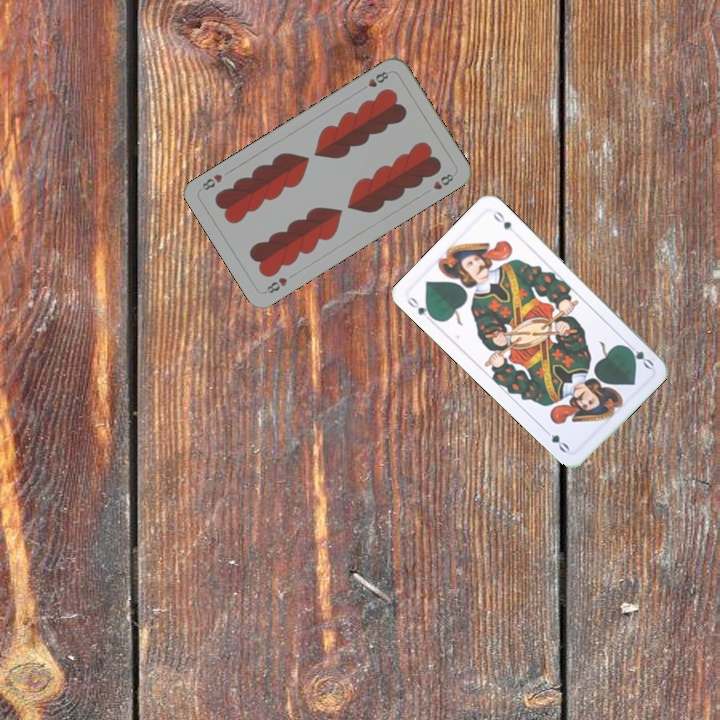GO: (620, 338, 656, 372), (402, 293, 438, 323)
H8: (356, 67, 391, 94), (261, 273, 290, 296)
